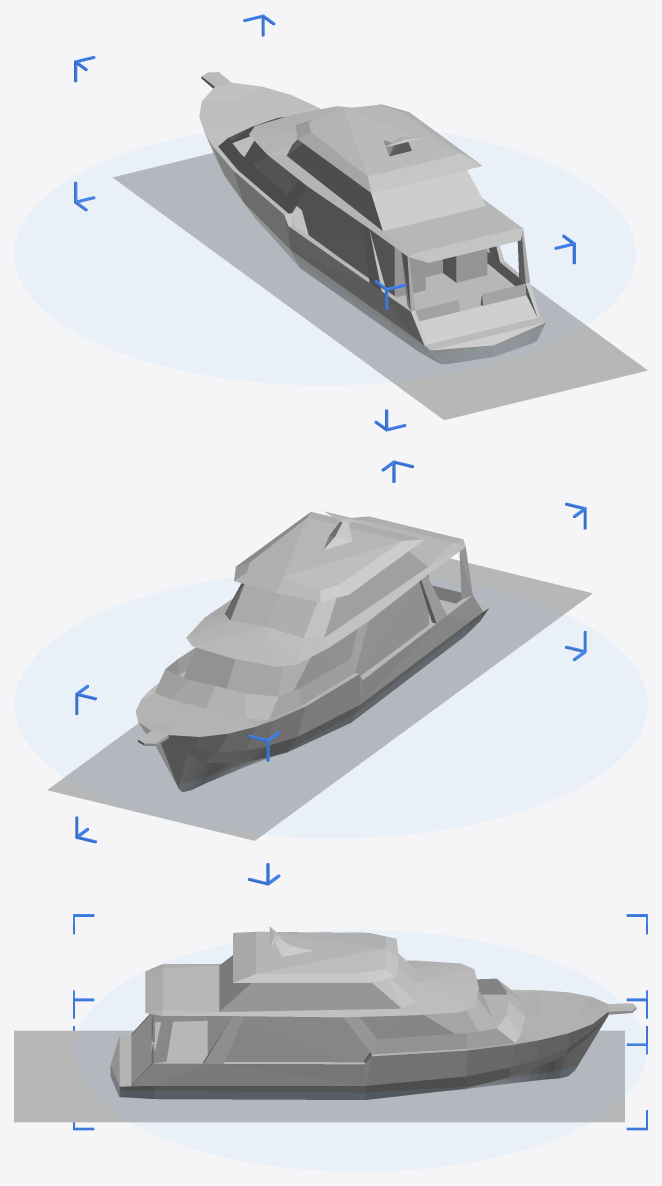
The model's file is Yacht.glb.
3 views of the same model, one above another, from view 1: azimuth 30°, elevation 25°; view 2: azimuth 150°, elevation 25°; view 3: azimuth 270°, elevation 25° (orthographic). The views are drawn at different scales.
Visible parts, largest first — view 1: AIS_Yacht-A002, SurfaceGraphic_whiteGlow005, BoundingBox; view 2: AIS_Yacht-A002, SurfaceGraphic_whiteGlow005, BoundingBox; view 3: AIS_Yacht-A002, SurfaceGraphic_whiteGlow005, BoundingBox.
Part boxes in pixels (x1=…): AIS_Yacht-A002: x1=199, y1=72, x2=545, y2=364; SurfaceGraphic_whiteGlow005: x1=112, y1=153, x2=647, y2=420; BoundingBox: x1=74, y1=14, x2=575, y2=431; AIS_Yacht-A002: x1=135, y1=511, x2=488, y2=792; SurfaceGraphic_whiteGlow005: x1=47, y1=558, x2=592, y2=840; BoundingBox: x1=75, y1=460, x2=586, y2=885; AIS_Yacht-A002: x1=110, y1=926, x2=636, y2=1099; SurfaceGraphic_whiteGlow005: x1=14, y1=1030, x2=624, y2=1122; BoundingBox: x1=73, y1=914, x2=647, y2=1130.
Bounding box in the file's own units: 16.84 × 5.4 × 18.63.
